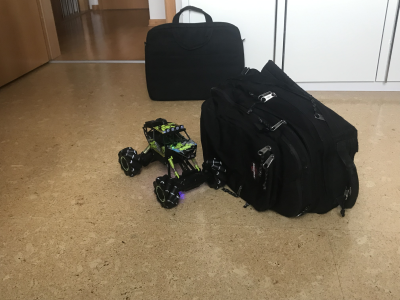remote control car: (116, 115, 228, 210)
